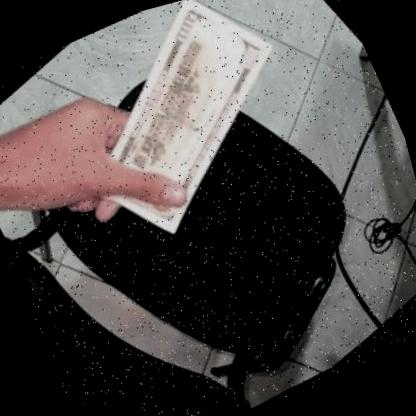one_hundred-back: (0, 0, 372, 313)
